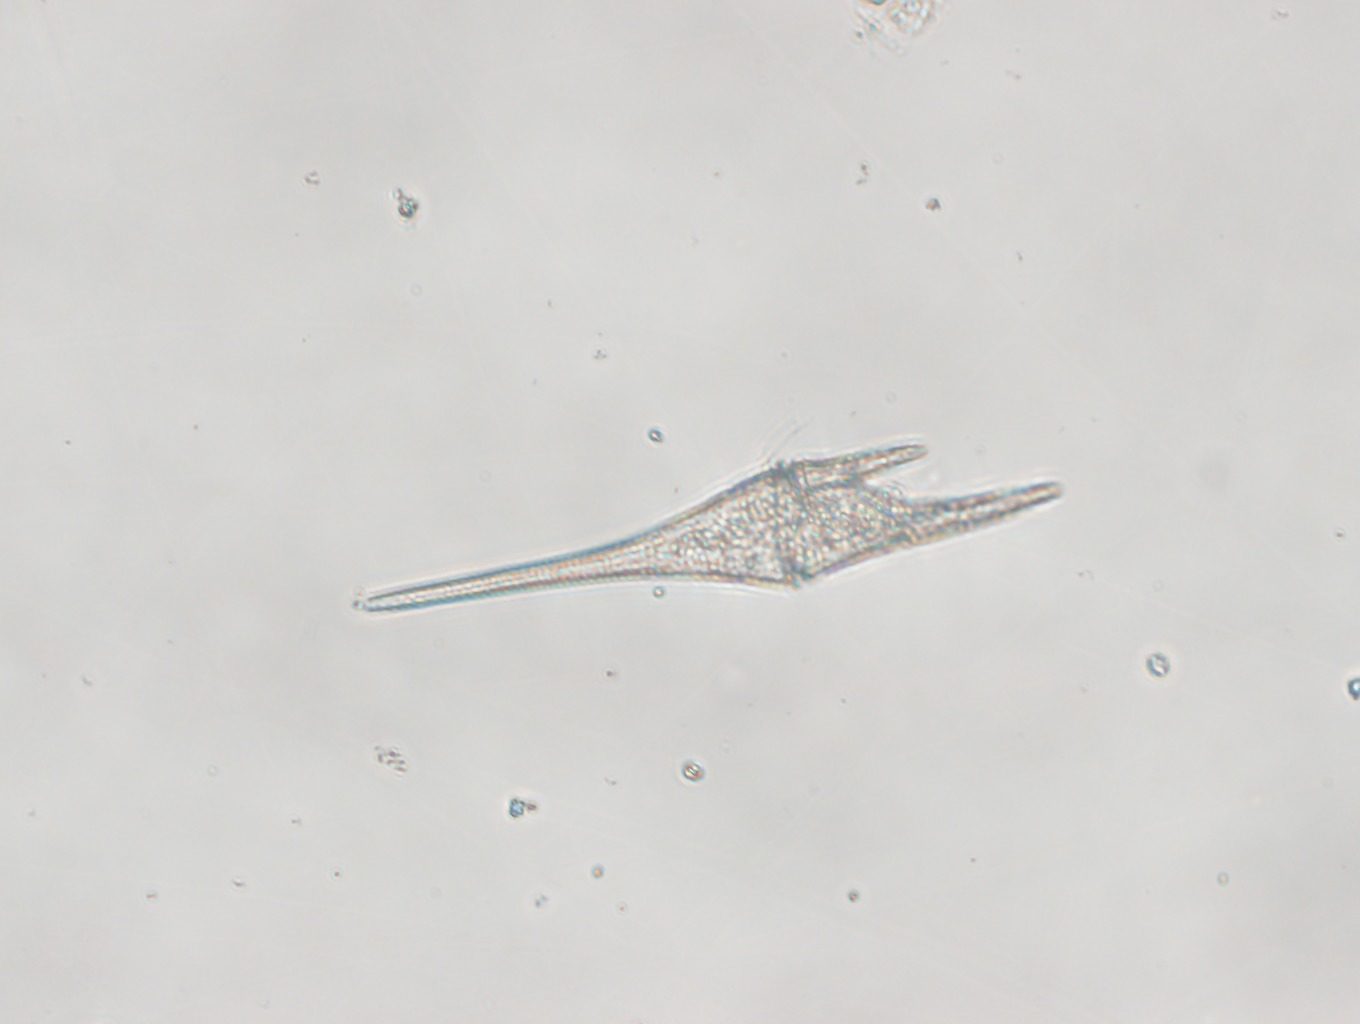ceratium furca: (360, 441, 1062, 617)
